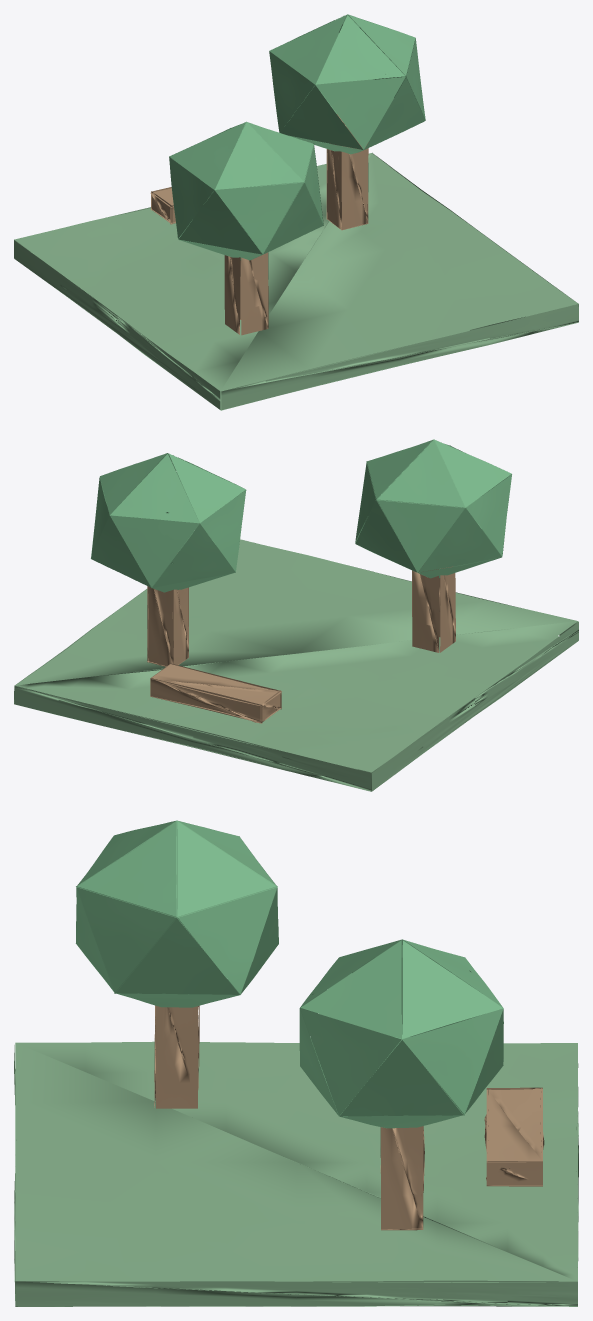
File: park.glb
3 views of the same model, one above another, from view 1: azimuth 30°, elevation 25°; view 2: azimuth 150°, elevation 25°; view 3: azimuth 270°, elevation 25° (orthographic). The views are drawn at different scales.
Parts seen in each view (by area): view 1: MetroPark; view 2: MetroPark; view 3: MetroPark.
Boxes of the visible parts, x1=… form: MetroPark: x1=14, y1=14, x2=578, y2=410; MetroPark: x1=14, y1=439, x2=578, y2=791; MetroPark: x1=14, y1=820, x2=578, y2=1306.
Bounding box in the file's own units: 1.61 × 0.9702 × 1.61.
